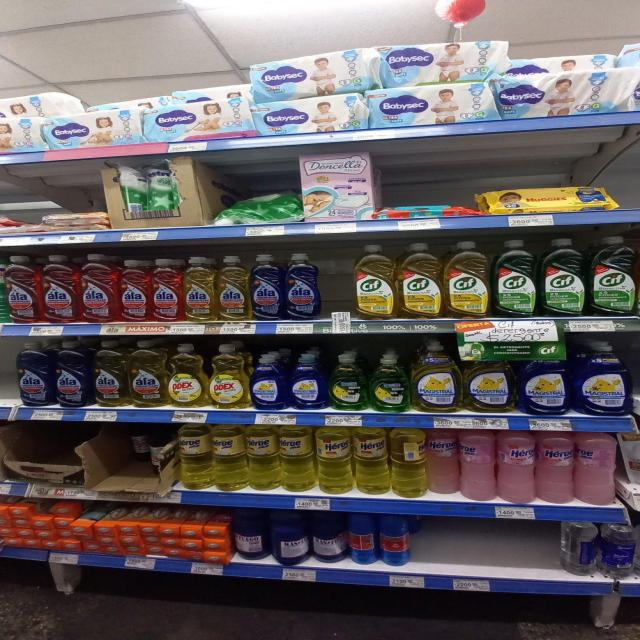ala_conc_amarillo: (129, 340, 166, 407), (92, 340, 127, 408), (217, 255, 250, 321), (183, 256, 215, 322)
ala_conc_azul: (283, 252, 321, 320), (15, 339, 52, 407), (54, 340, 90, 408), (251, 254, 282, 322)
ala_conc_rojo: (79, 254, 117, 324), (41, 254, 78, 324), (4, 254, 39, 324), (150, 258, 182, 322), (118, 258, 149, 322)
cif_conc_bot_amarilla: (444, 240, 490, 318), (396, 242, 442, 319), (352, 244, 395, 320)
cif_conc_botella_verde: (588, 235, 636, 316), (540, 237, 586, 317), (492, 238, 537, 318)
heroe: (576, 432, 616, 506), (498, 430, 535, 504), (537, 431, 574, 504), (460, 429, 495, 502), (315, 425, 352, 494), (174, 423, 211, 490), (390, 427, 425, 497), (279, 424, 314, 492), (354, 426, 388, 496), (212, 424, 245, 492), (426, 428, 459, 496), (246, 424, 278, 492)
magistral_con_amarillo: (463, 358, 515, 413), (412, 354, 460, 412)
magistral_con_azul: (574, 340, 630, 416), (518, 356, 570, 415), (289, 352, 327, 410), (250, 352, 287, 410)
magistral_con_verde: (330, 352, 367, 411)
odex: (168, 342, 207, 408), (209, 344, 248, 409)
